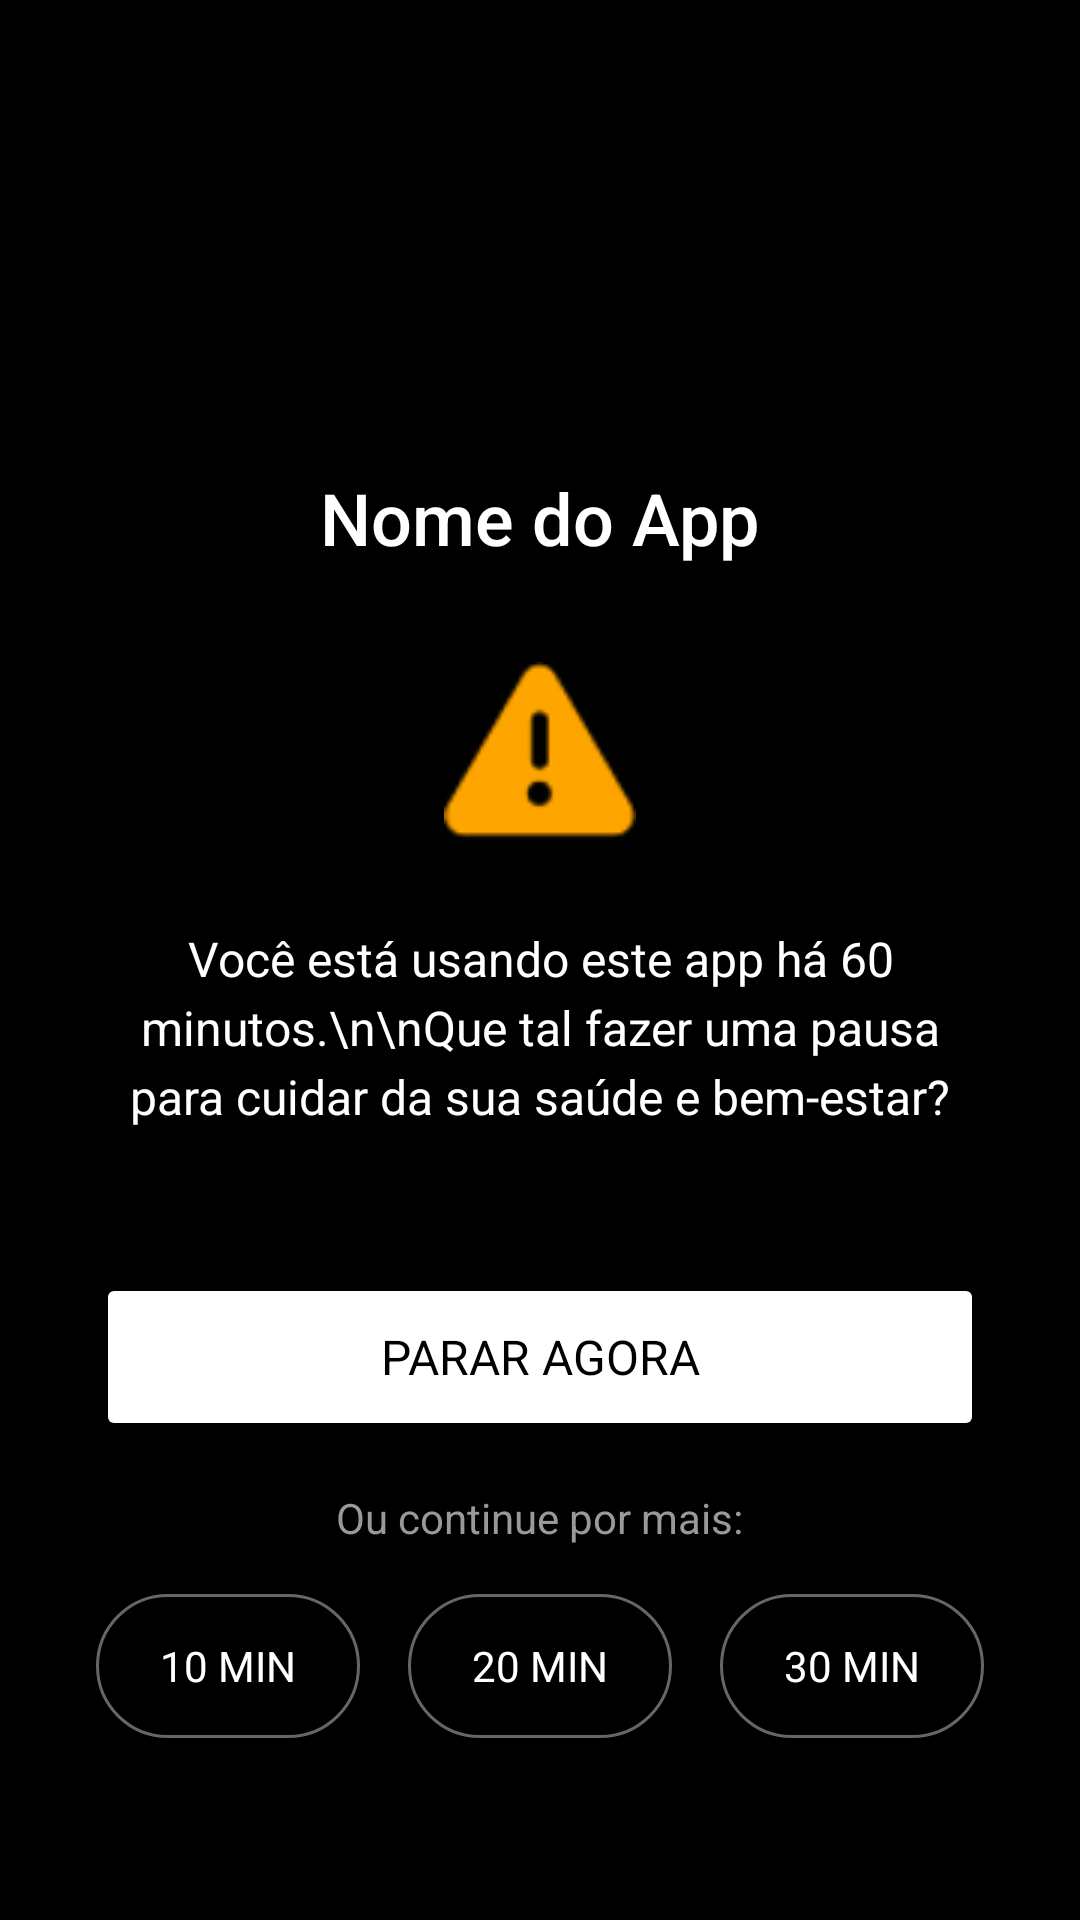

Named icons in this screenshot (1080 x 1920) and their bounding boxes, (x1, y1, x2, y2):
alert: (444, 662, 636, 837)
